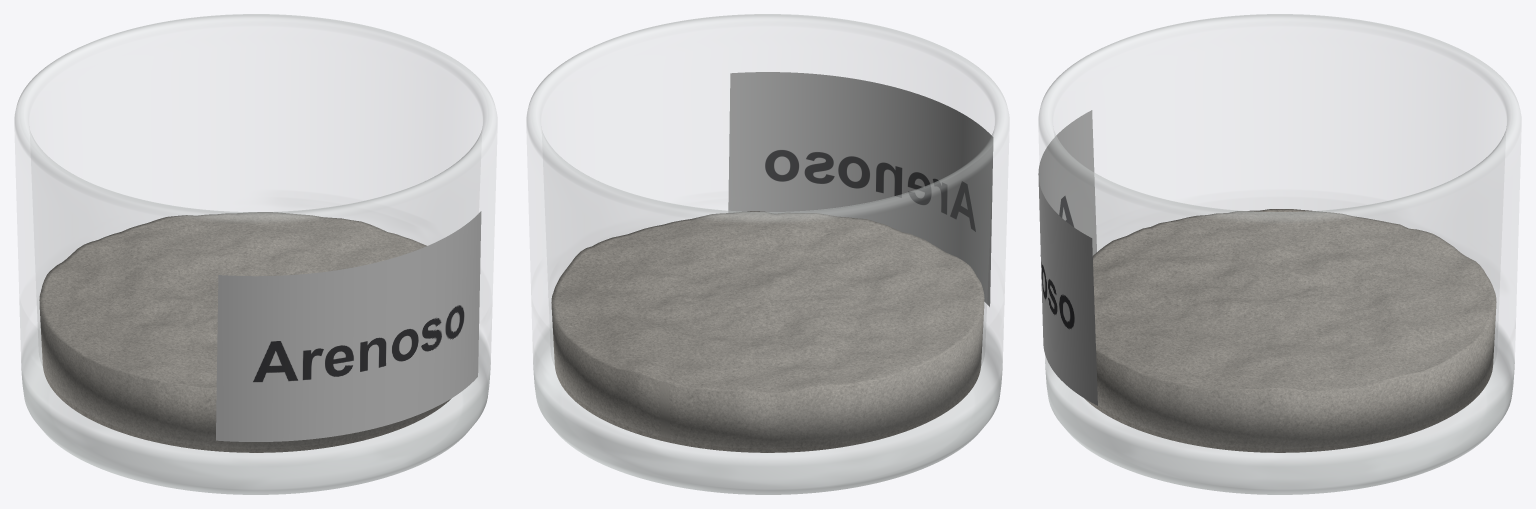
The model's file is copo_05_02_arenoso.glb.
The picture shows the model from 3 angles, left to right: view 1: azimuth 30°, elevation 25°; view 2: azimuth 150°, elevation 25°; view 3: azimuth 270°, elevation 25°; orthographic projection.
Visible parts, largest first — view 1: vidro_copo_arenoso, solo_arenoso, etiqueta_arenoso; view 2: vidro_copo_arenoso, solo_arenoso, etiqueta_arenoso; view 3: vidro_copo_arenoso, solo_arenoso, etiqueta_arenoso.
Part boxes in pixels (<box>): vidro_copo_arenoso: <box>14,14,497,494</box>; solo_arenoso: <box>39,212,451,452</box>; etiqueta_arenoso: <box>216,211,481,441</box>; vidro_copo_arenoso: <box>526,14,1009,494</box>; solo_arenoso: <box>551,211,984,452</box>; etiqueta_arenoso: <box>728,72,993,306</box>; vidro_copo_arenoso: <box>1038,14,1521,494</box>; solo_arenoso: <box>1084,209,1496,452</box>; etiqueta_arenoso: <box>1038,110,1097,405</box>.
Bounding box in the file's own units: 0.0699 × 0.046 × 0.0699.
3 materials, 3 textured.
